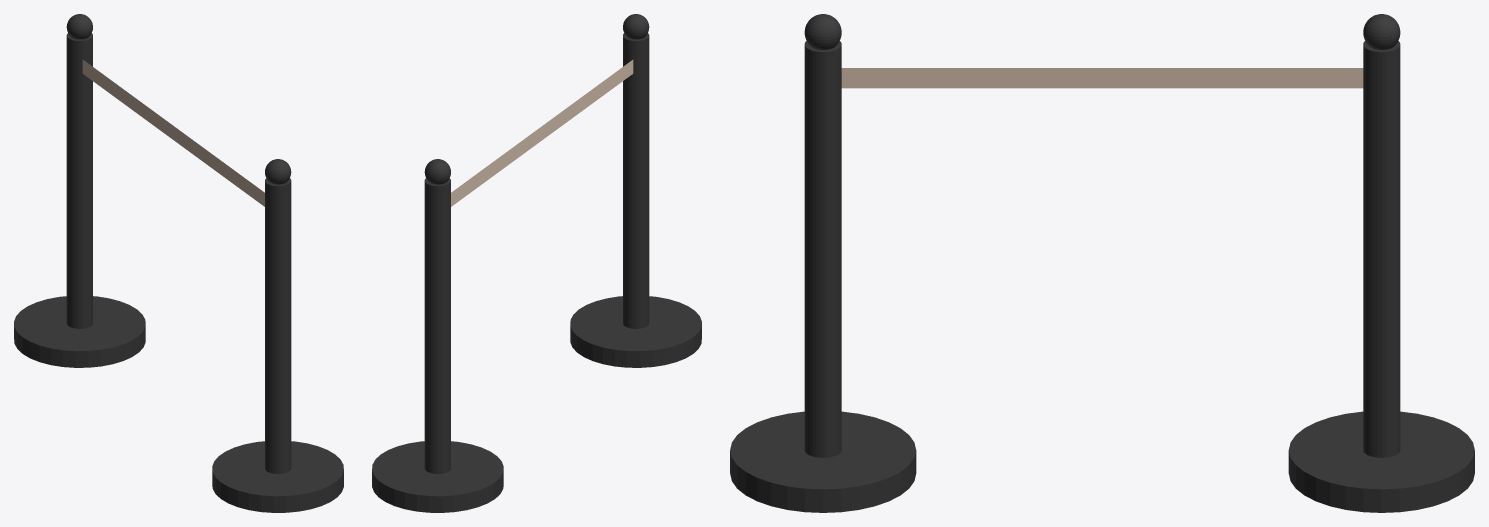
File: divider.glb
The picture shows the model from 3 angles, left to right: view 1: azimuth 30°, elevation 25°; view 2: azimuth 150°, elevation 25°; view 3: azimuth 270°, elevation 25°; orthographic projection. The views are drawn at different scales.
Parts seen in each view (by area): view 1: Cylinder.001, Cylinder, Plane; view 2: Cylinder, Cylinder.001, Plane; view 3: Cylinder, Cylinder.001, Plane.
Part boxes in pixels (x1,y1,x2,y2): Cylinder.001: [212, 159, 343, 512]; Cylinder: [14, 14, 145, 367]; Plane: [82, 59, 264, 206]; Cylinder: [372, 159, 503, 512]; Cylinder.001: [570, 14, 701, 367]; Plane: [451, 59, 633, 206]; Cylinder: [1288, 14, 1474, 512]; Cylinder.001: [730, 14, 916, 512]; Plane: [841, 68, 1363, 88].
Size of the model in its own units: 1 by 2.72 by 4.
